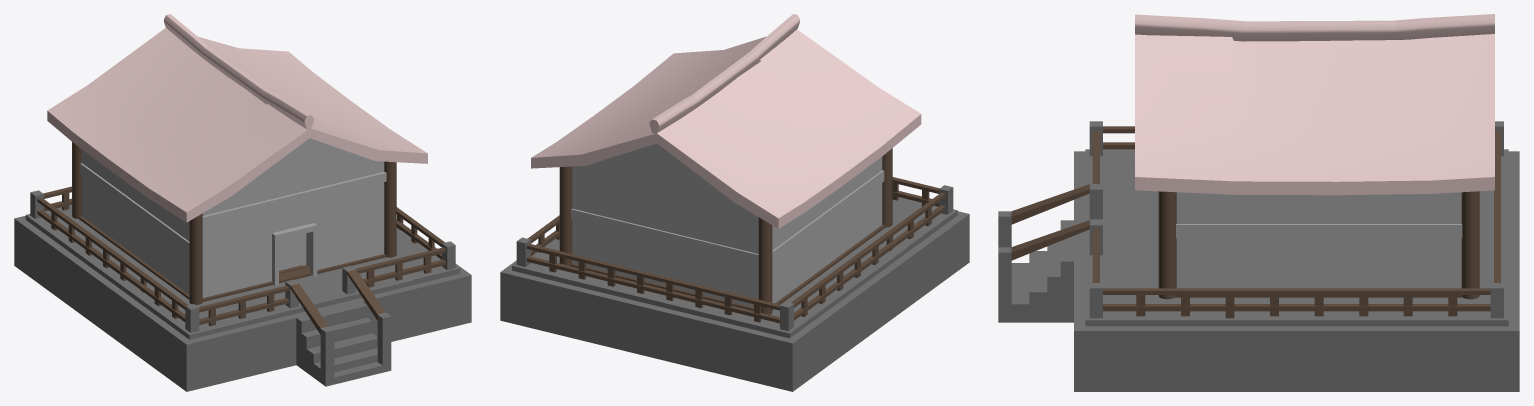
File: Japanese_house_08.fbx
3 renders of one model, left to right at view 1: azimuth 30°, elevation 25°; view 2: azimuth 150°, elevation 25°; view 3: azimuth 270°, elevation 25°, orthographic. The views are drawn at different scales.
Visible parts, largest first — view 1: Japanese_house_08; view 2: Japanese_house_08; view 3: Japanese_house_08.
Boxes of the visible parts, x1,y1,x2,y2 form: Japanese_house_08: (14,14,471,391); Japanese_house_08: (500,14,969,391); Japanese_house_08: (998,14,1519,391).
Bounding box in the file's own units: 110 × 82.57 × 135.
